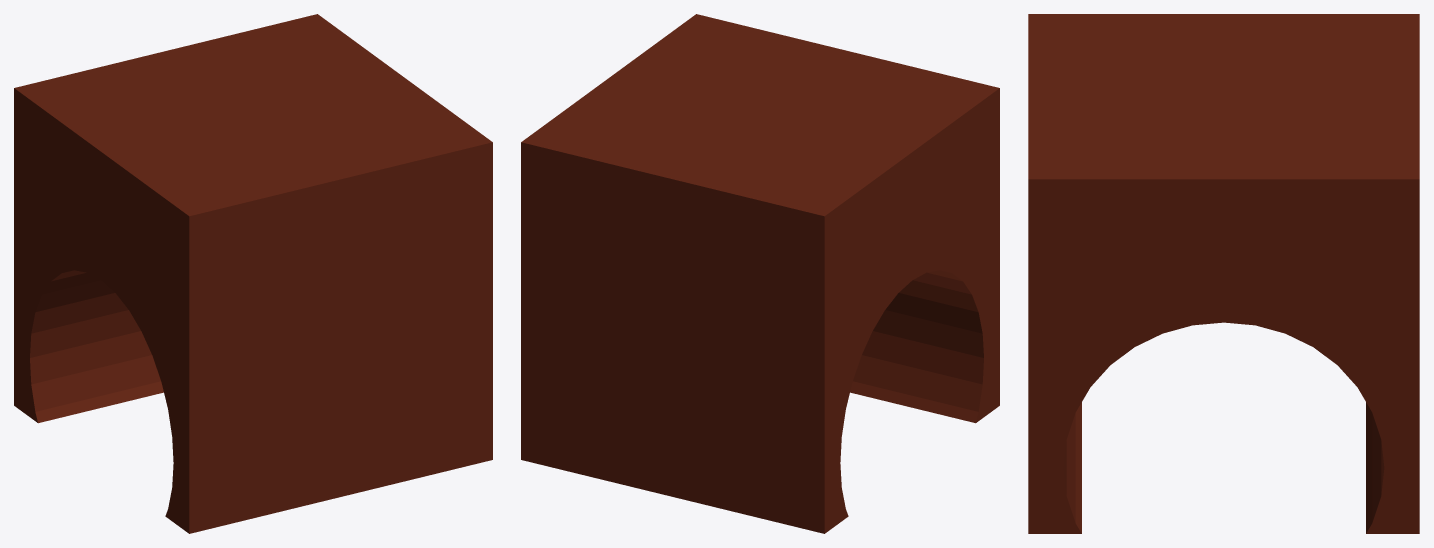
Rendered from beathroom chair.fbx.
3 renders of one model, left to right at view 1: azimuth 30°, elevation 25°; view 2: azimuth 150°, elevation 25°; view 3: azimuth 270°, elevation 25°, orthographic. The views are drawn at different scales.
Visible parts, largest first — view 1: Cube.008; view 2: Cube.008; view 3: Cube.008.
Boxes of the visible parts, box(x1,y1,x2,y2) form: Cube.008: box(14, 14, 492, 533); Cube.008: box(521, 14, 999, 533); Cube.008: box(1028, 14, 1419, 533).
Bounding box in the file's own units: 30 × 30 × 30.
